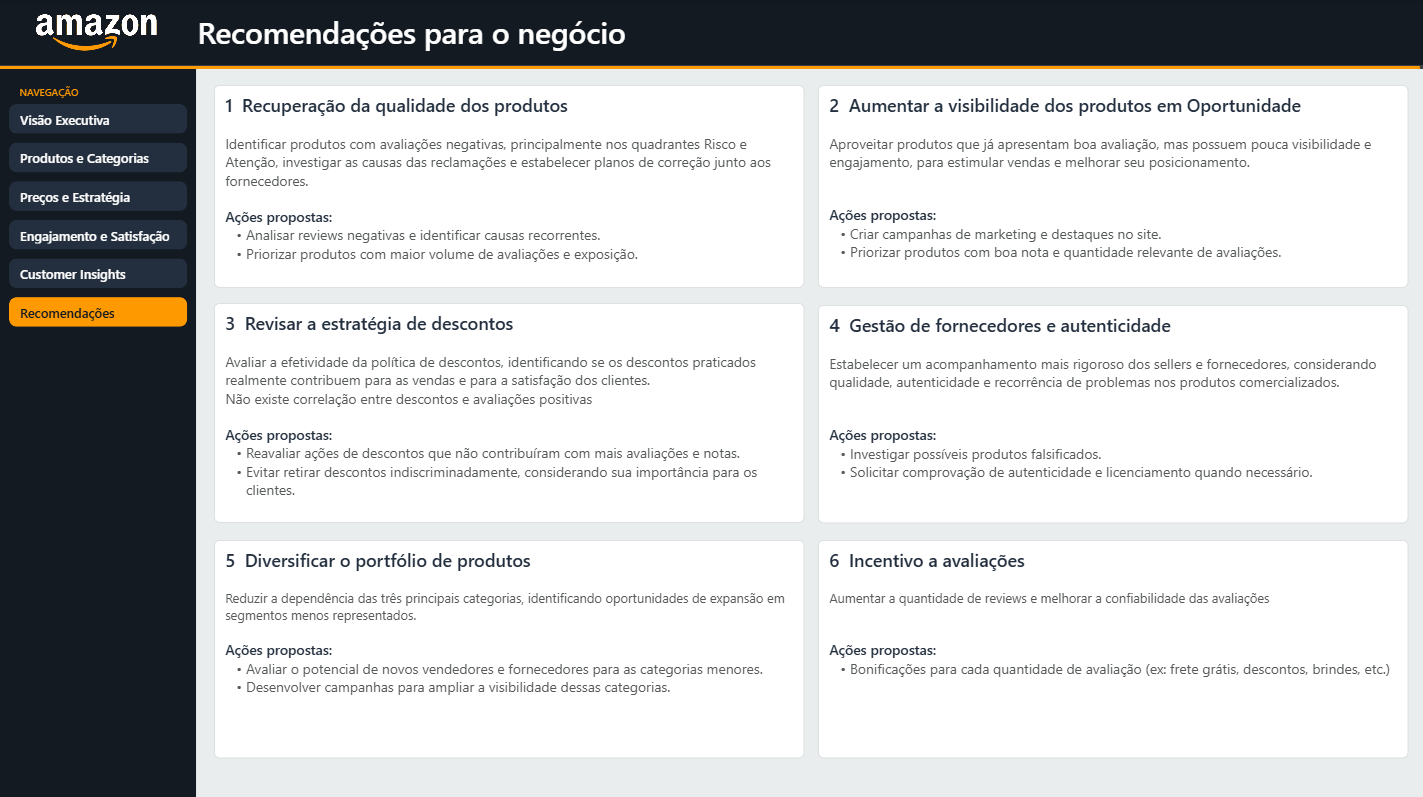

The dashboard page shown, as its layout file describes it:
{"tool":"powerbi","page":{"name":"Recomendações","canvas":[1920,1080],"ordinal":5},"visuals":[{"type":"textbox","box":[0,0,1920,90],"z":0},{"type":"textbox","box":[0,94,264,986],"z":1000},{"type":"textbox","box":[0,90,1920,4],"z":2000},{"type":"pageNavigator","box":[12,142,240,300],"z":3000},{"type":"textbox","box":[24,112,216,24],"z":4000},{"type":"textbox","box":[288.2,115.8,794.5,273.4],"z":5000},{"type":"textbox","box":[1101.5,115.8,794.5,273.4],"z":6000},{"type":"textbox","box":[288.2,409.4,794.5,296.3],"z":7000},{"type":"textbox","box":[1101.5,412.1,794.5,293.6],"z":8000},{"type":"image","box":[20.4,0,218.8,90.5],"z":9000},{"type":"textbox","box":[288.2,728.5,794.5,293.6],"z":10000},{"type":"textbox","box":[1101.5,728.5,794.5,293.6],"z":11000}]}

Visuals, with their boxes on the page's 1920x1080 design canvas (x1, y1, x2, y2). These are canvas units, not pixel positions in the 1423x797 screenshot, which may show the page scaled, cropped or inside an application window:
textbox: {"x1": 0, "y1": 0, "x2": 1920, "y2": 90}
textbox: {"x1": 0, "y1": 94, "x2": 264, "y2": 1080}
textbox: {"x1": 0, "y1": 90, "x2": 1920, "y2": 94}
pageNavigator: {"x1": 12, "y1": 142, "x2": 252, "y2": 442}
textbox: {"x1": 24, "y1": 112, "x2": 240, "y2": 136}
textbox: {"x1": 288, "y1": 116, "x2": 1083, "y2": 389}
textbox: {"x1": 1102, "y1": 116, "x2": 1896, "y2": 389}
textbox: {"x1": 288, "y1": 409, "x2": 1083, "y2": 706}
textbox: {"x1": 1102, "y1": 412, "x2": 1896, "y2": 706}
image: {"x1": 20, "y1": 0, "x2": 239, "y2": 90}
textbox: {"x1": 288, "y1": 728, "x2": 1083, "y2": 1022}
textbox: {"x1": 1102, "y1": 728, "x2": 1896, "y2": 1022}
